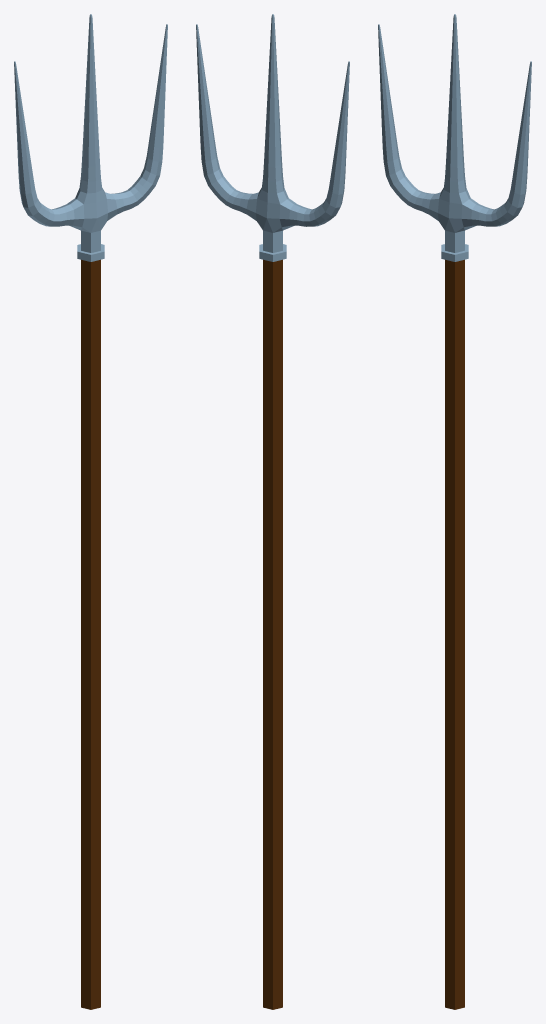
Rendered from pitch fork.fbx.
3 views of the same model, side by side, from view 1: azimuth 30°, elevation 25°; view 2: azimuth 150°, elevation 25°; view 3: azimuth 330°, elevation 25° (orthographic).
Visible parts, largest first — view 1: Cube; view 2: Cube; view 3: Cube.
Boxes of the visible parts, bbox=[...] form: Cube: bbox=[14, 14, 167, 1009]; Cube: bbox=[196, 14, 349, 1009]; Cube: bbox=[378, 14, 531, 1009].
Size of the model in its own units: 44.83 by 1792 by 291.
